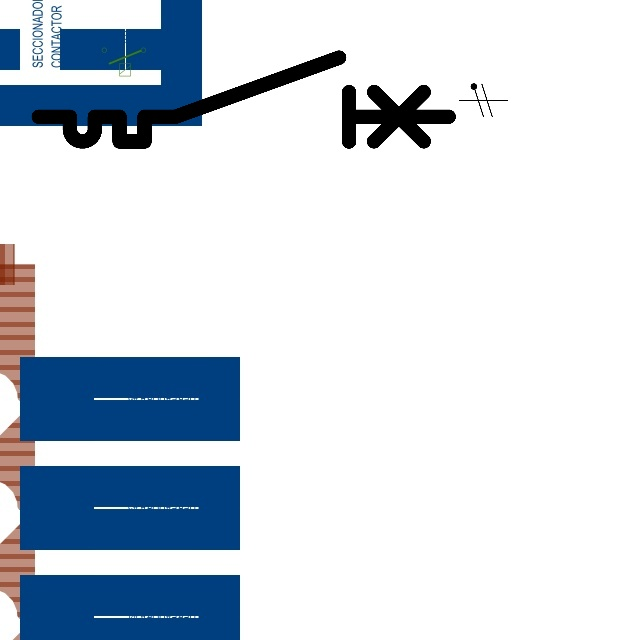interruptor_termomagnetico: (28, 47, 459, 152)
